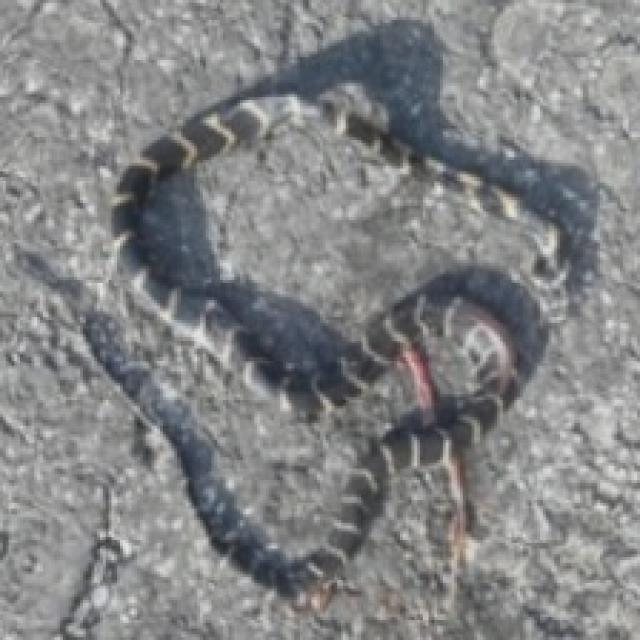king cobra: (14, 20, 594, 623)
